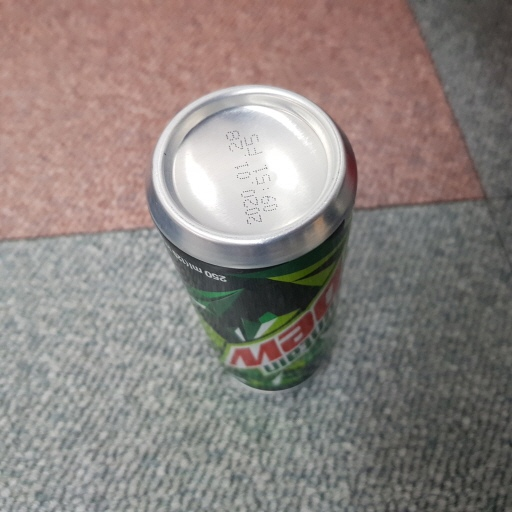Metal_0: (139, 84, 357, 397)
